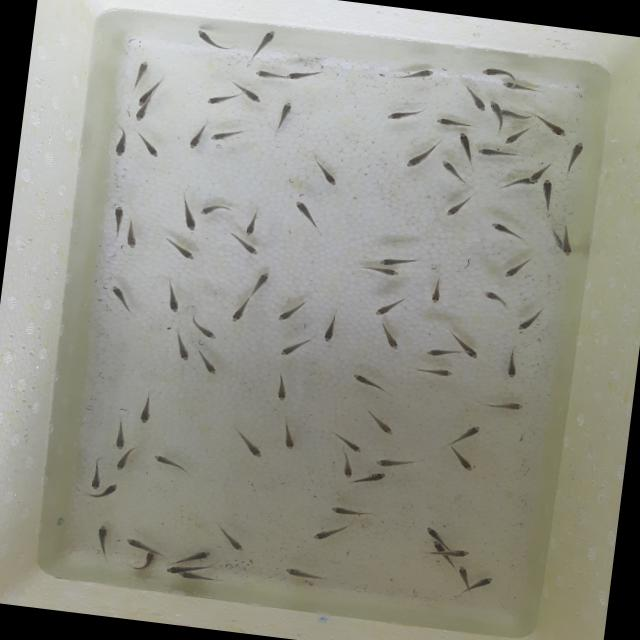fingerling: (234, 424, 270, 464), (385, 64, 443, 86), (403, 136, 438, 172), (454, 573, 494, 604), (272, 293, 308, 326), (368, 294, 409, 322), (363, 410, 404, 438), (212, 524, 249, 554), (346, 369, 390, 394), (176, 195, 204, 234), (290, 199, 323, 232), (104, 282, 136, 316), (512, 305, 548, 335), (331, 426, 369, 454), (268, 368, 296, 405), (498, 341, 524, 380), (486, 222, 534, 243), (192, 350, 228, 378), (274, 333, 310, 361), (88, 521, 116, 557), (502, 252, 534, 282), (451, 332, 483, 362), (246, 268, 274, 302), (316, 306, 340, 345), (250, 27, 282, 56), (268, 100, 297, 132), (354, 468, 392, 492), (192, 25, 227, 51), (164, 236, 198, 262), (374, 250, 414, 272), (208, 122, 244, 146), (382, 104, 424, 124), (562, 138, 586, 173), (311, 160, 341, 188), (444, 192, 474, 220), (451, 420, 481, 448), (282, 564, 324, 584), (228, 296, 255, 327), (408, 364, 460, 380), (536, 115, 572, 138), (152, 453, 188, 476), (310, 523, 346, 546), (165, 556, 202, 578), (136, 77, 162, 108), (354, 261, 401, 278), (436, 158, 468, 182), (172, 334, 196, 366), (326, 504, 374, 520), (373, 453, 418, 470), (501, 124, 534, 147), (227, 234, 260, 257), (448, 450, 477, 476), (177, 544, 211, 566), (474, 146, 520, 162), (429, 545, 472, 562), (285, 66, 321, 86), (112, 445, 136, 475), (163, 284, 184, 318), (134, 396, 155, 430), (198, 198, 230, 220), (527, 159, 555, 184), (428, 272, 447, 308), (178, 568, 216, 586), (122, 534, 160, 552), (466, 90, 492, 116), (432, 114, 474, 130), (240, 209, 263, 238), (202, 88, 235, 108), (484, 398, 528, 413), (278, 420, 298, 452), (502, 175, 537, 193), (136, 134, 162, 158), (486, 100, 506, 131), (186, 124, 208, 152), (234, 86, 268, 104), (110, 202, 127, 238), (112, 129, 132, 159), (560, 226, 580, 256), (190, 320, 220, 340), (379, 325, 402, 351), (88, 458, 105, 493), (124, 214, 140, 251), (340, 452, 360, 481), (456, 131, 475, 161), (481, 288, 508, 309), (497, 106, 532, 122), (100, 480, 120, 508), (133, 549, 156, 573), (538, 178, 558, 205), (422, 346, 458, 361), (135, 58, 151, 88), (112, 420, 128, 450), (250, 68, 284, 82), (502, 80, 535, 94), (135, 106, 157, 126), (426, 525, 448, 545), (478, 64, 508, 78), (548, 227, 566, 248), (454, 564, 470, 584), (426, 538, 445, 552)
